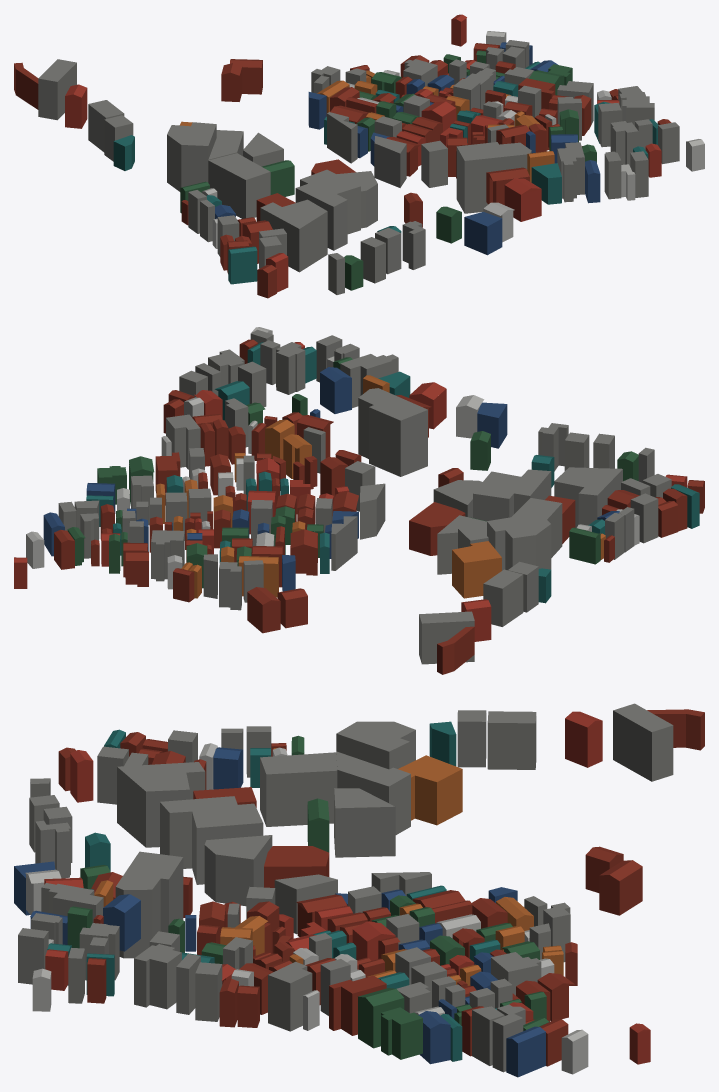
The model's file is near-17-109443-59471.c4bd513a.glb.
The picture shows the model from 3 angles, top to bottom: view 1: azimuth 30°, elevation 25°; view 2: azimuth 150°, elevation 25°; view 3: azimuth 270°, elevation 25°; orthographic projection. The views are drawn at different scales.
Bounding box in the file's own units: 305 × 52.93 × 308.
